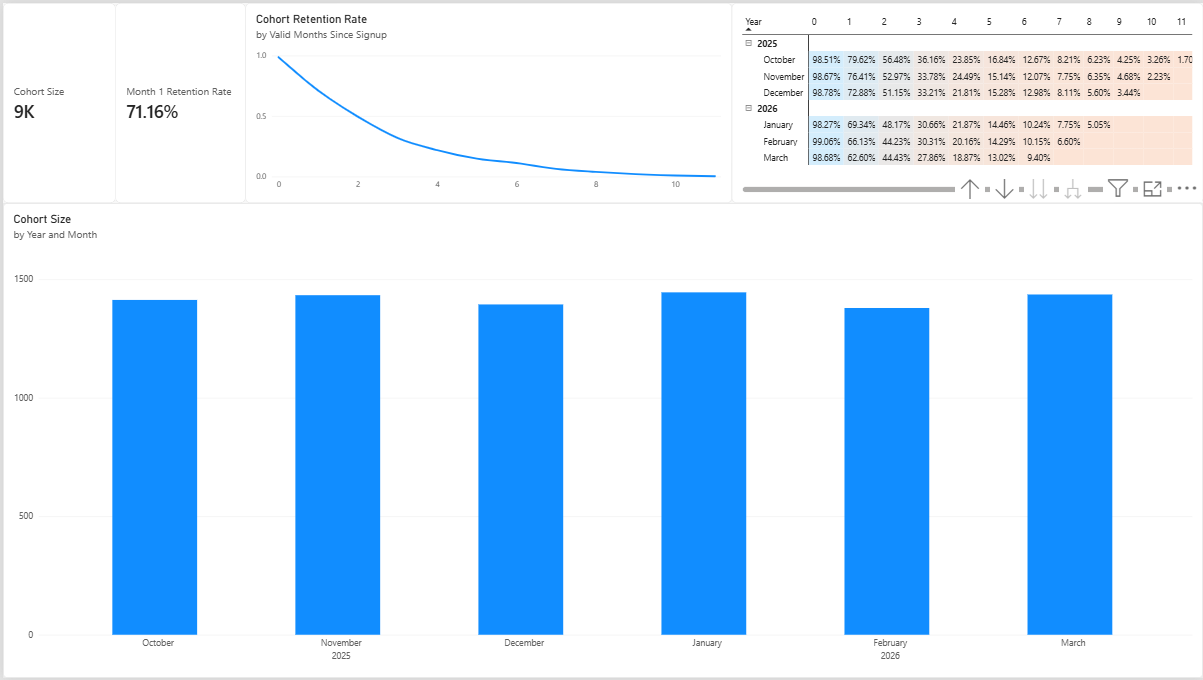

This screenshot's page, from the dashboard's own definition file:
{"tool":"powerbi","page":{"name":"Cohort Retention Analysis","canvas":[1920,1080],"ordinal":1},"visuals":[{"type":"cardVisual","fields":{"Data":["user_events_clean.Cohort Size"]},"box":[0,0,180,320],"z":0},{"type":"cardVisual","title":"Cohort Retention Rate","fields":{"Data":["user_events_clean.Month 1 Retention Rate"]},"box":[180,0,208,320],"z":1000},{"type":"pivotTable","fields":{"Columns":["user_events_clean.Valid Months Since Signup"],"Rows":["users_clean.cohort_month.Variation.Date Hierarchy.Year","users_clean.cohort_month.Variation.Date Hierarchy.Month"],"Values":["user_events_clean.Cohort Retention Rate"]},"box":[1166,0,754,320],"z":2000},{"type":"lineChart","fields":{"Category":["user_events_clean.Valid Months Since Signup"],"Y":["user_events_clean.Cohort Retention Rate"]},"box":[388,0,778,320],"z":3000},{"type":"columnChart","fields":{"Category":["users_clean.cohort_month.Variation.Date Hierarchy.Year","users_clean.cohort_month.Variation.Date Hierarchy.Month"],"Y":["user_events_clean.Cohort Size"]},"box":[0,320,1920,760],"z":4000}]}

Visuals, with their boxes in screenshot pixels (x1, y1, x2, y2), scaled from the page's 1920x1080 canvas onto the 1203x680 screenshot:
cardVisual - user_events_clean.Cohort Size: detection(0, 0, 113, 201)
"Cohort Retention Rate" cardVisual: detection(113, 0, 243, 201)
pivotTable - user_events_clean.Valid Months Since Signup x users_clean.cohort_month.Variation.Date Hierarchy.Year: detection(731, 0, 1202, 201)
lineChart - user_events_clean.Valid Months Since Signup x user_events_clean.Cohort Retention Rate: detection(243, 0, 731, 201)
columnChart - users_clean.cohort_month.Variation.Date Hierarchy.Year x users_clean.cohort_month.Variation.Date Hierarchy.Month: detection(0, 201, 1202, 679)
